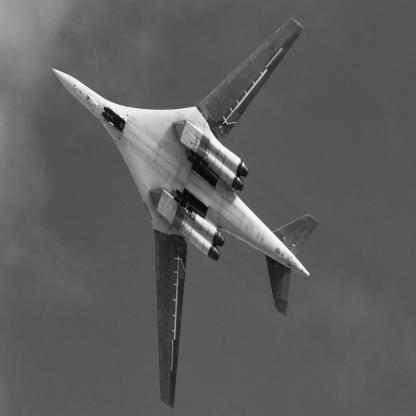Tu160: (52, 18, 321, 411)
